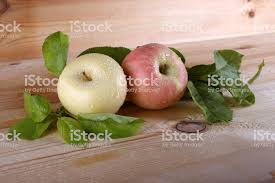apple: (122, 42, 197, 109), (57, 55, 125, 115)
